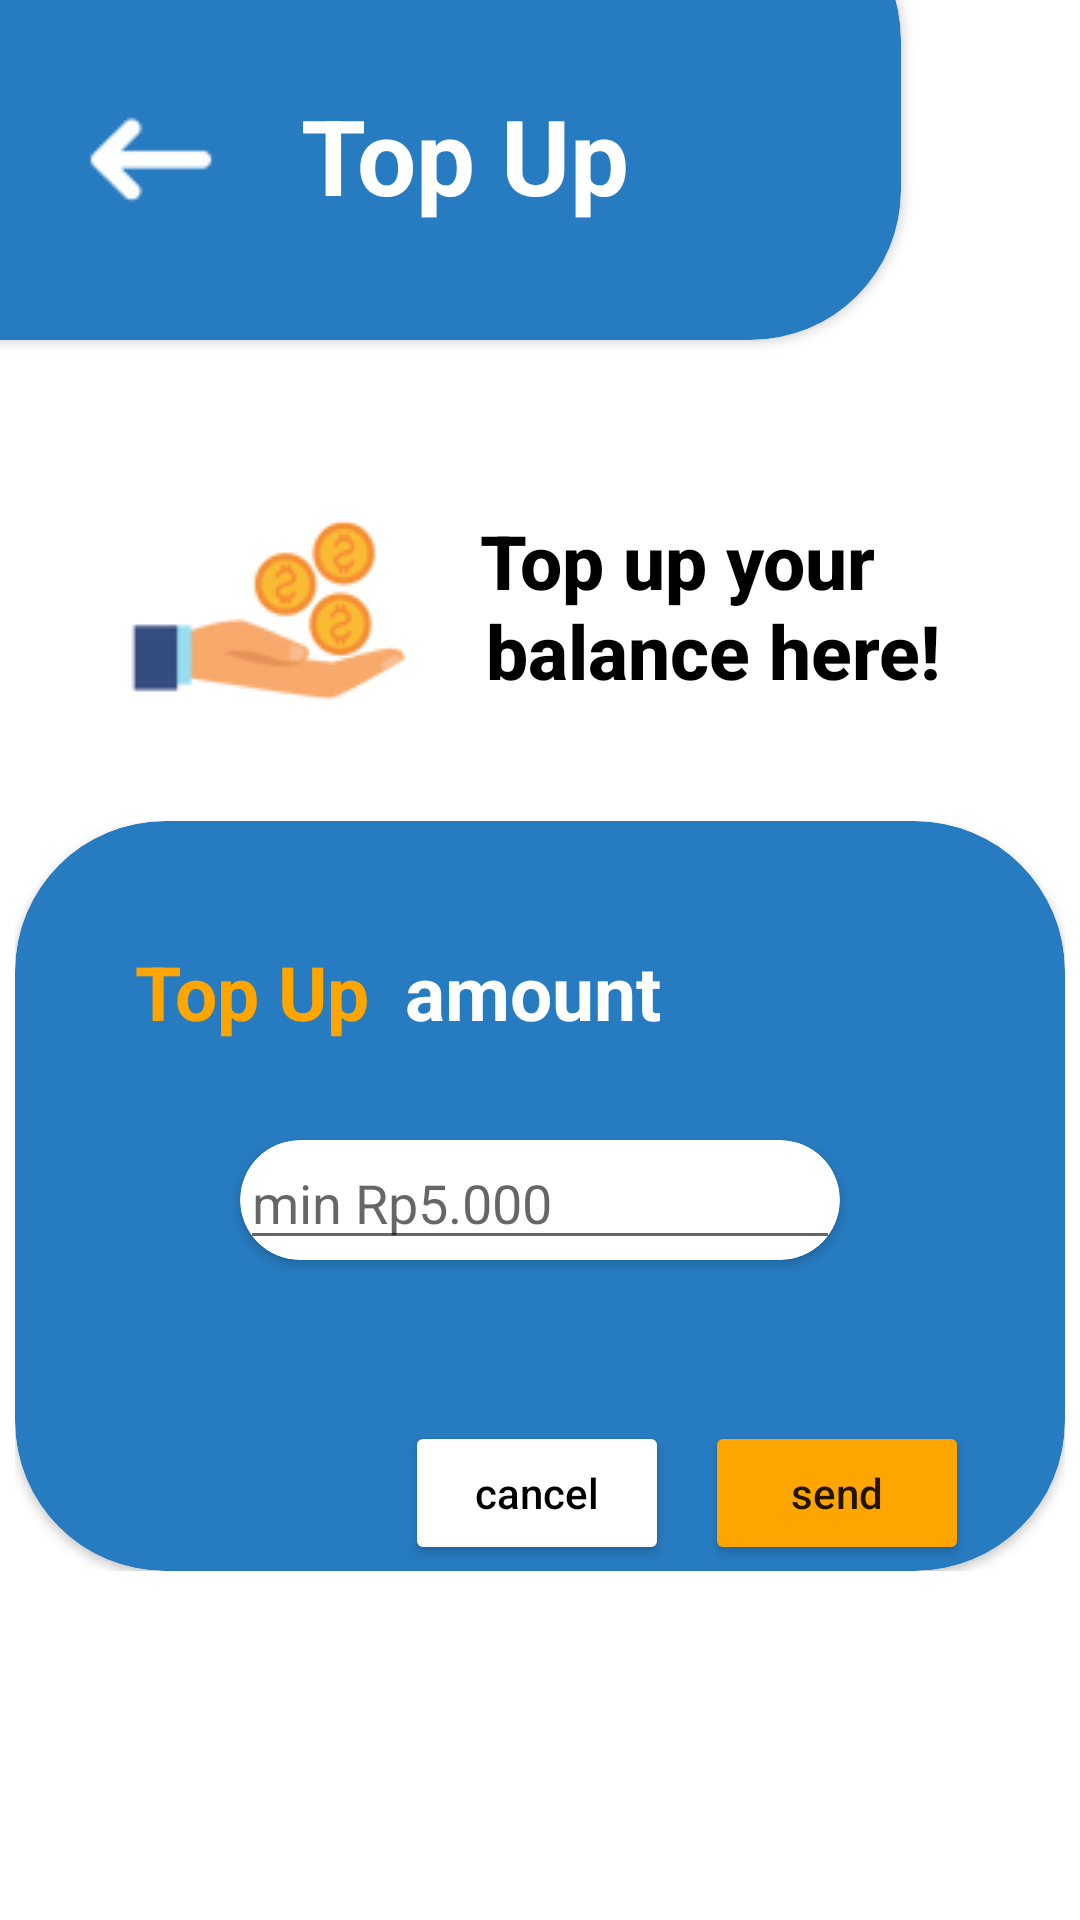

Where icons sit on this 1080 x 1920 app screen, as [left=x1, top=y1, right=x2, bottom=y2]:
bcakwhite: [left=90, top=117, right=212, bottom=202]
tangan: [left=132, top=522, right=406, bottom=700]
